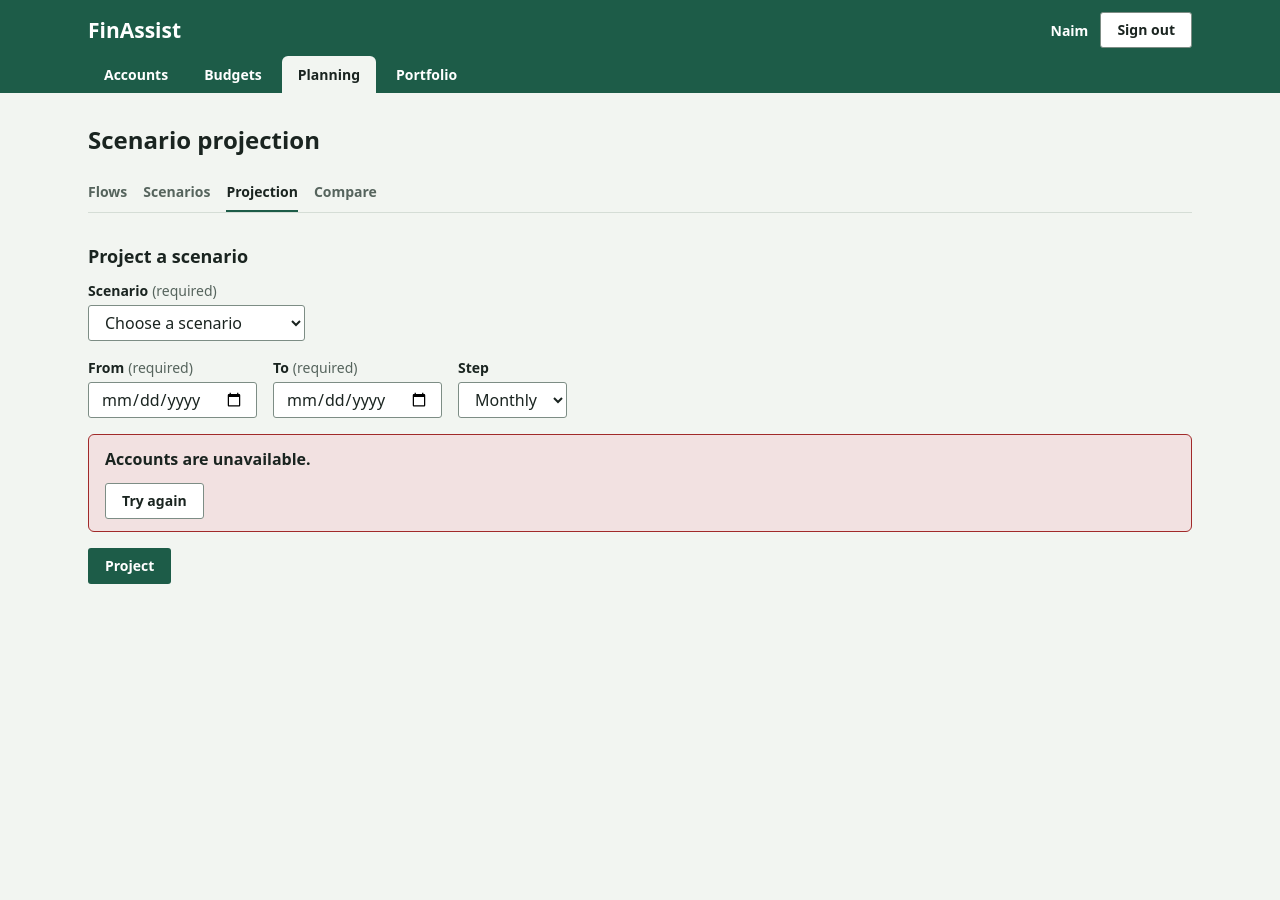
Test: PlanningAccountsBridge › Given_the_accounts_read_fails_When_the_projection_page_renders_Then_only_its_pickers_fail_and_a_retry_reads_them_again
Check: the text "Accounts are unavailable." is shown, box [105,448,311,470]
Check: the dropdown labelled "Scenario" is shown, box [88,304,305,340]
Click the button "Try again" at (154, 500), box [105,482,204,518]
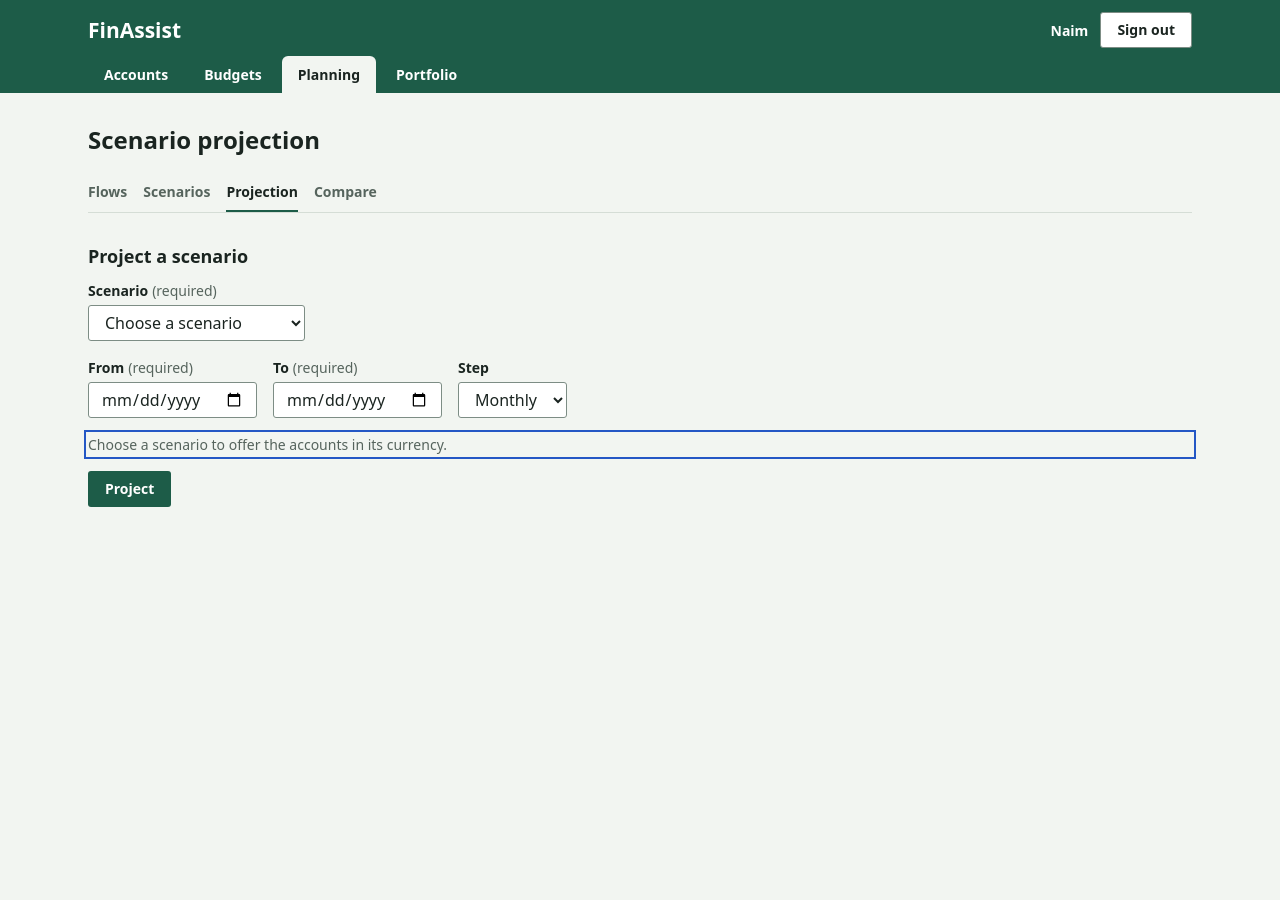
Select "Aggressive saving (ILS)" in the dropdown labelled "Scenario" at (196, 322), box [88,304,305,340]
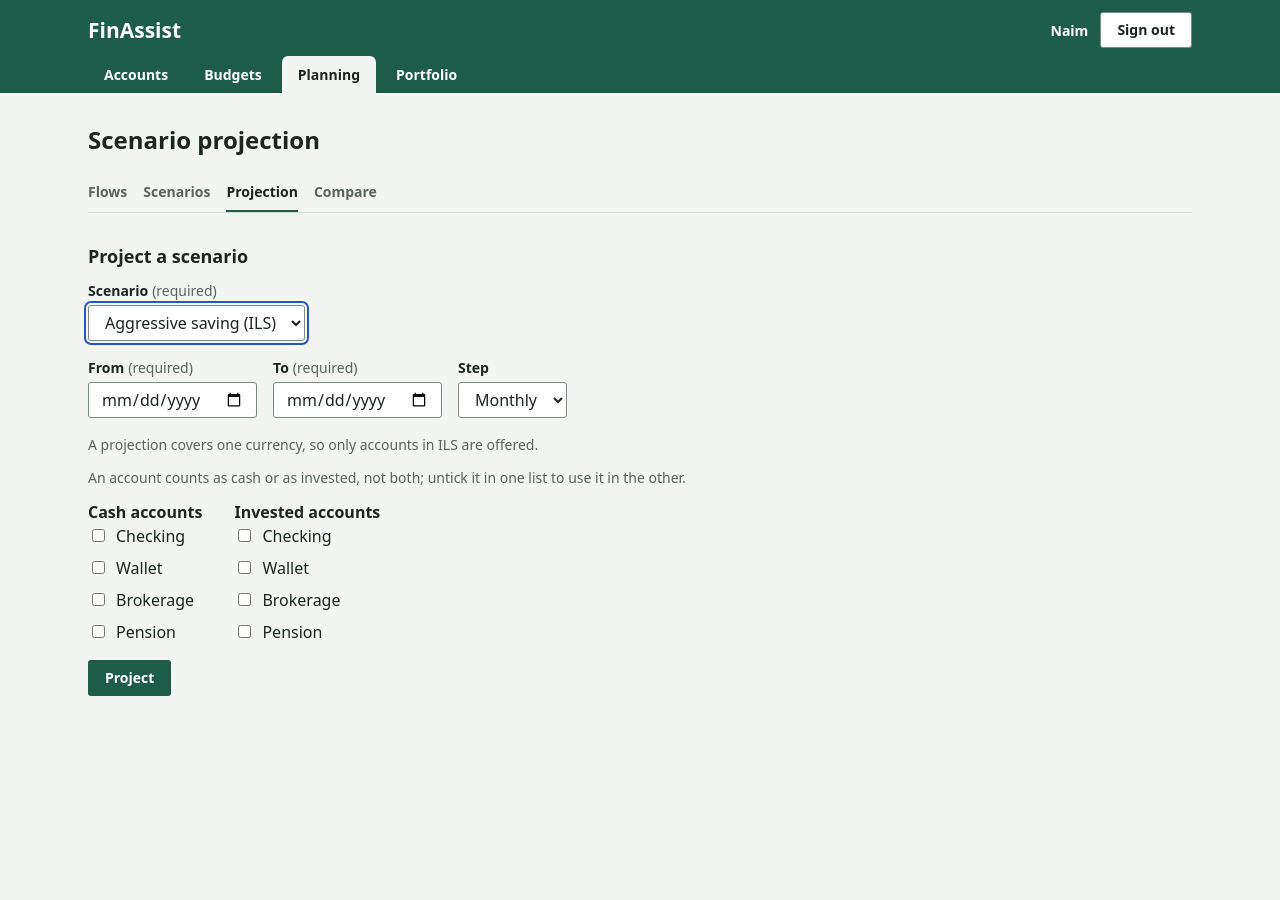
Check: the number of checkboxes is 8
